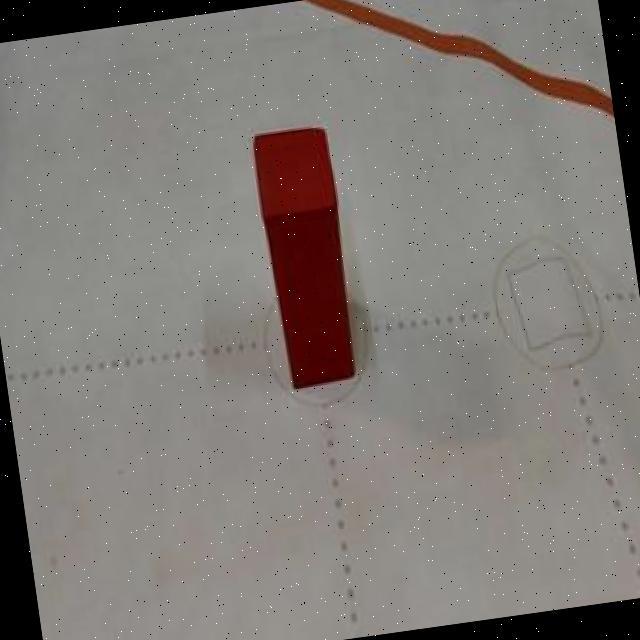redbox: (250, 123, 364, 393)
